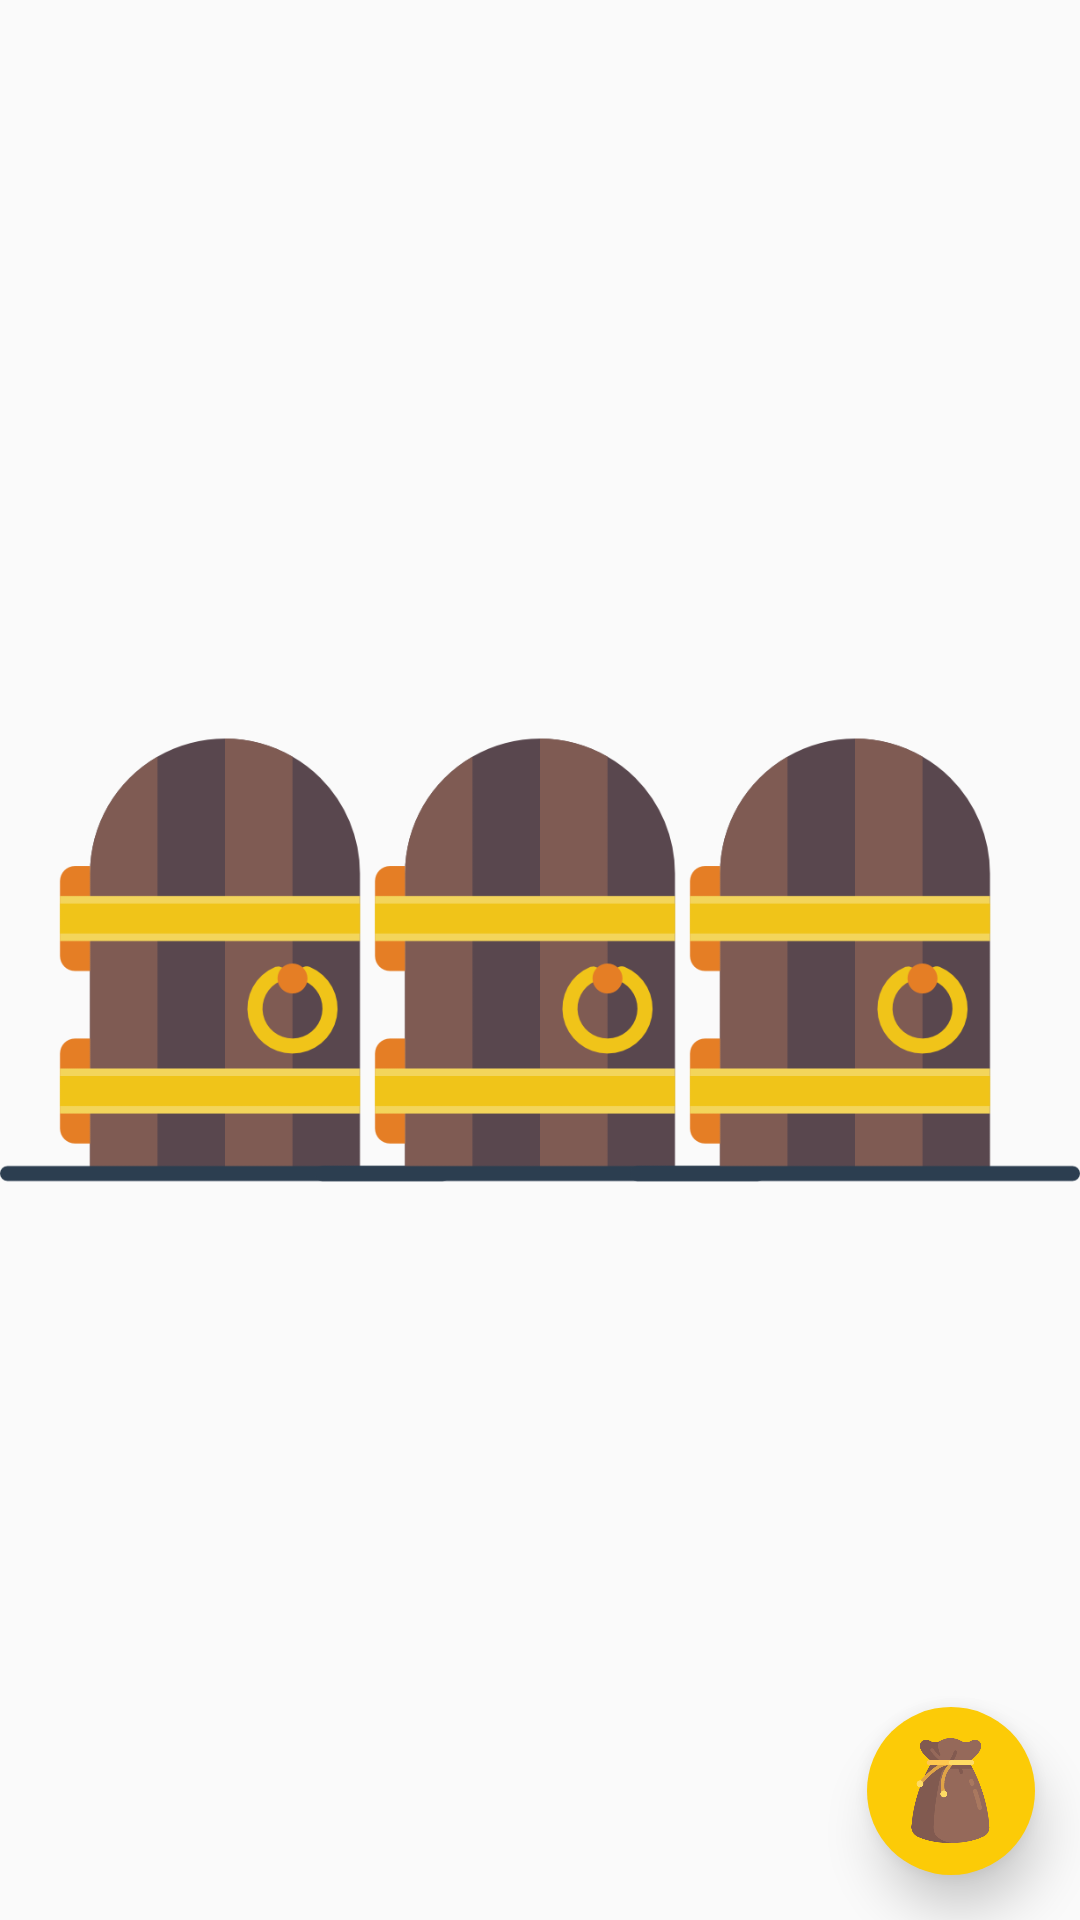

Where icons sit on this 1080×1920 app screen, as (x1, y1, x2, y2):
bag: (867, 1707, 1035, 1875)
